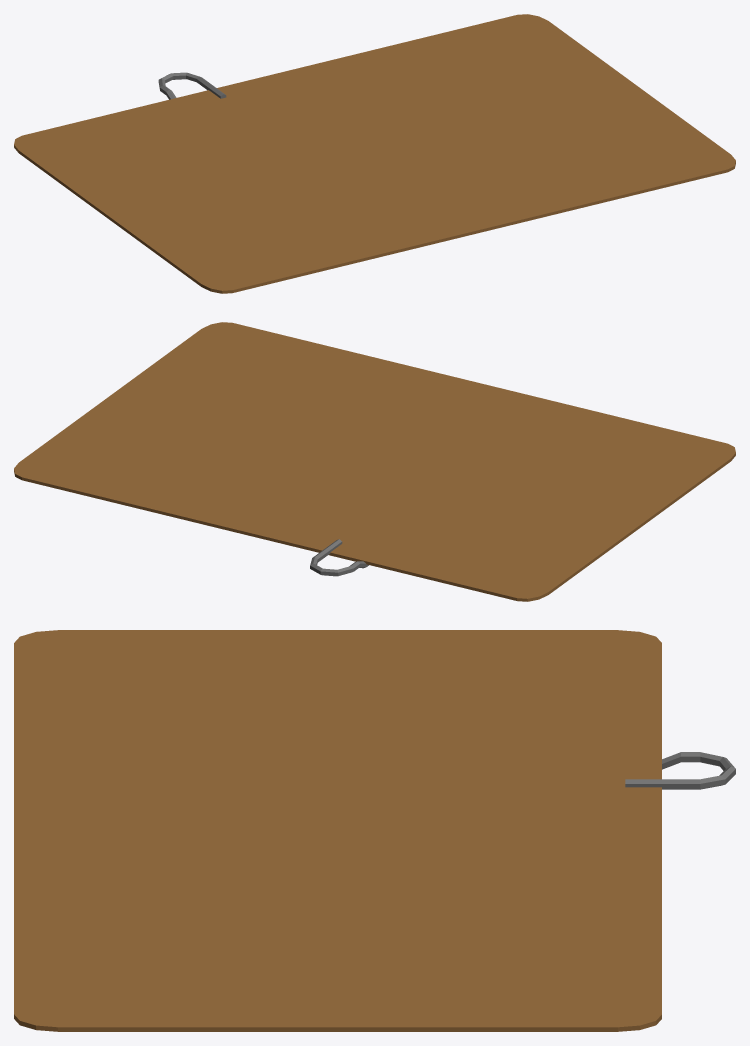
The model's file is Folder_FINAL.fbx.
3 views of the same model, one above another, from view 1: azimuth 30°, elevation 25°; view 2: azimuth 150°, elevation 25°; view 3: azimuth 270°, elevation 25° (orthographic). The views are drawn at different scales.
Parts seen in each view (by area): view 1: Cylinder.010; view 2: Cylinder.010; view 3: Cylinder.010.
Boxes of the visible parts, <box> form: Cylinder.010: <box>14,14,735,293</box>; Cylinder.010: <box>14,322,735,601</box>; Cylinder.010: <box>14,630,735,1031</box>.
Bounding box in the file's own units: 31.33 × 0.6549 × 24.07.
